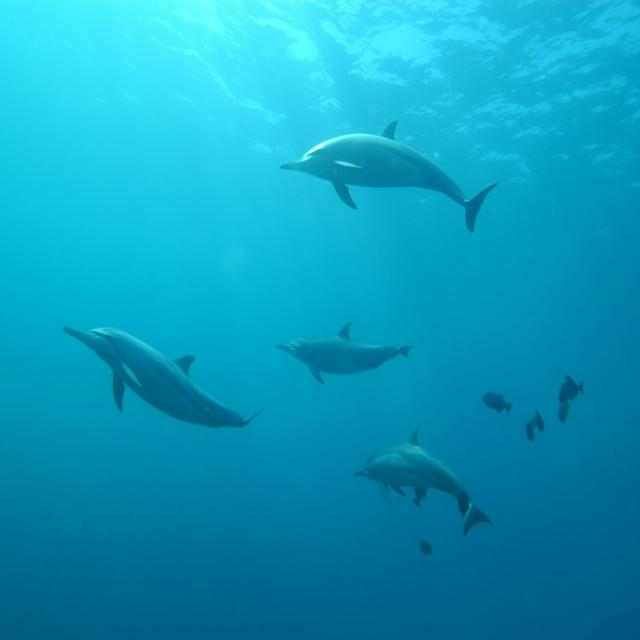penguin: (281, 121, 495, 232), (63, 328, 255, 427), (355, 428, 491, 534), (276, 323, 410, 383)
